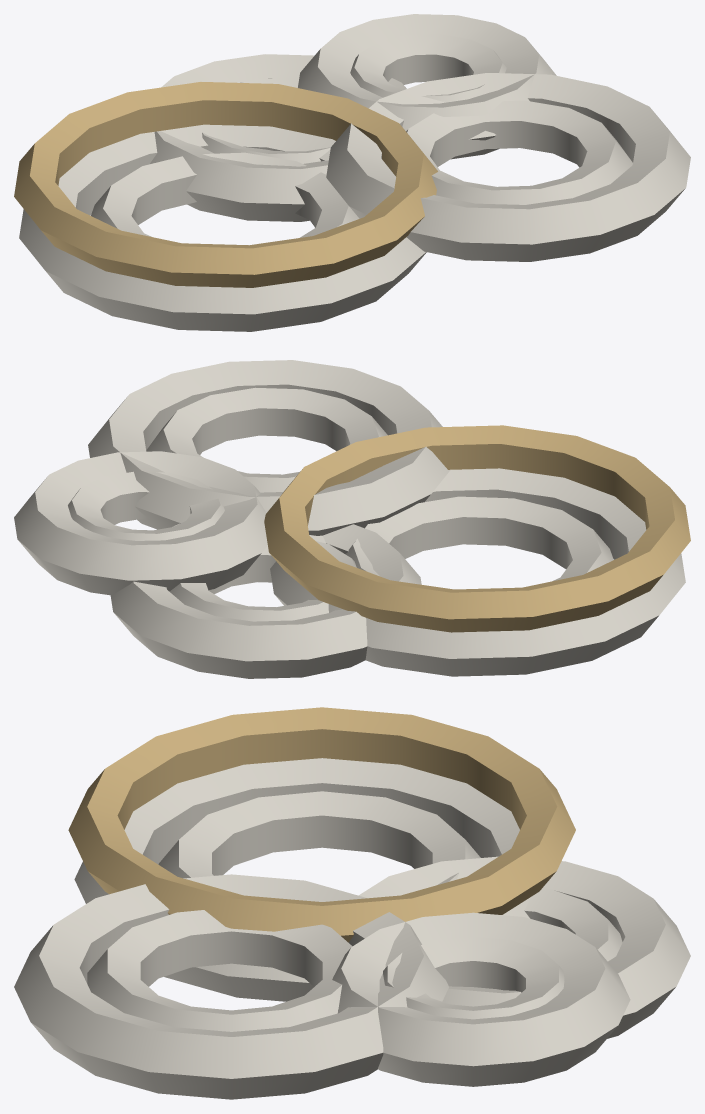
Rendered from kr_onion_ch.glb.
3 renders of one model, top to bottom at view 1: azimuth 30°, elevation 25°; view 2: azimuth 150°, elevation 25°; view 3: azimuth 270°, elevation 25°, orthographic. The views are drawn at different scales.
Visible parts, largest first — view 1: vc_m0_r4; view 2: vc_m0_r4; view 3: vc_m0_r4.
Boxes of the visible parts, left/top/right/bottom form: vc_m0_r4: left=14, top=14, right=690, bottom=331; vc_m0_r4: left=14, top=360, right=690, bottom=678; vc_m0_r4: left=14, top=707, right=690, bottom=1099.
Size of the model in its own units: 0.266 by 0.038 by 0.224.
